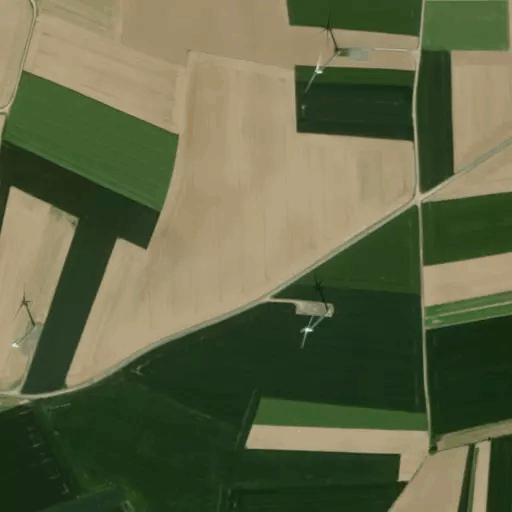wt: (299, 1, 348, 99), (292, 263, 334, 353), (1, 280, 39, 366)
